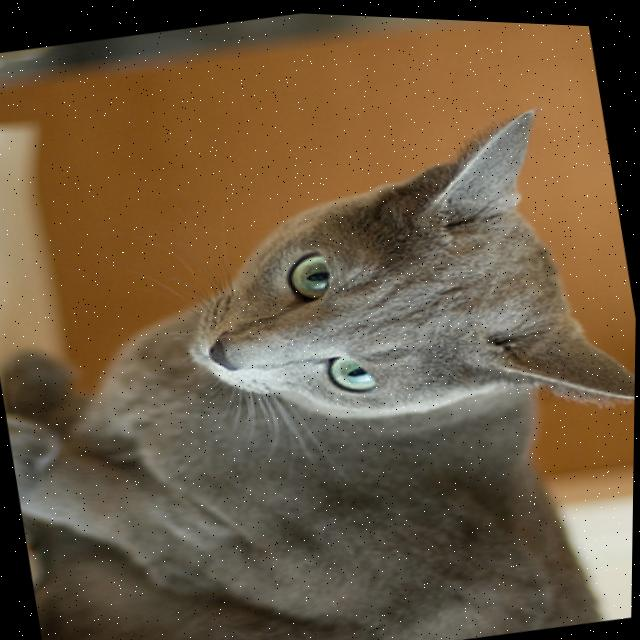Russian Blue: (0, 67, 639, 640)
